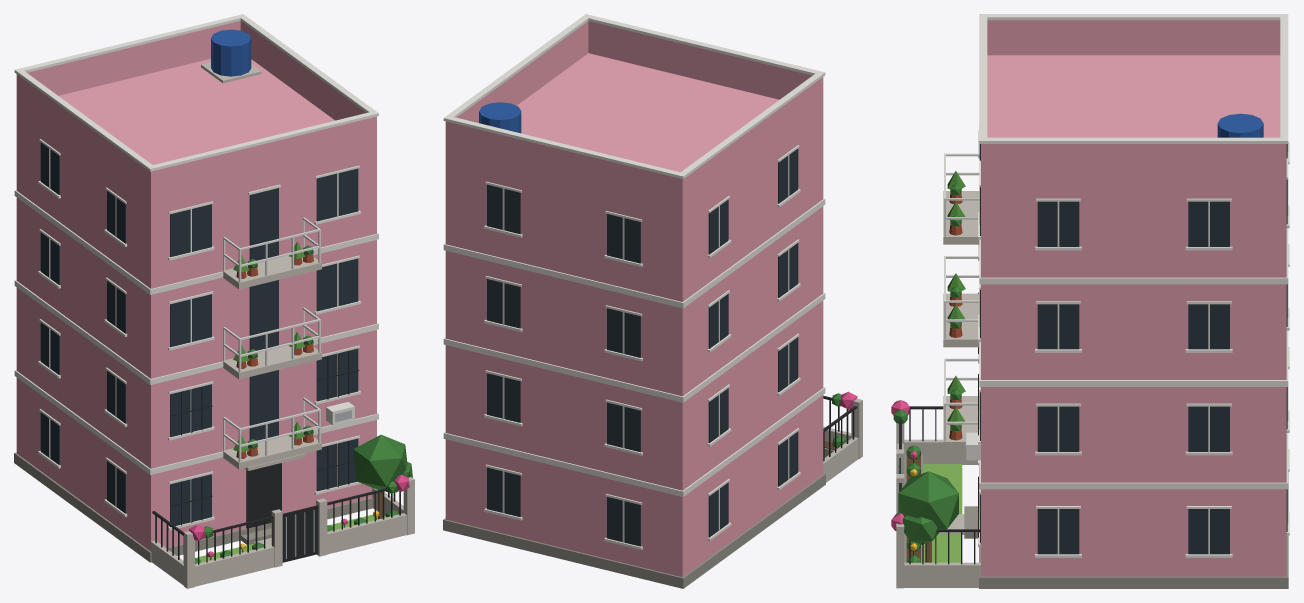
File: BAY_F_Tower_S.glb
3 views of the same model, side by side, from view 1: azimuth 30°, elevation 25°; view 2: azimuth 150°, elevation 25°; view 3: azimuth 270°, elevation 25° (orthographic). The views are drawn at different scales.
Visible parts, largest first — view 1: BAY_F_Tower_S; view 2: BAY_F_Tower_S; view 3: BAY_F_Tower_S.
Boxes of the visible parts, x1,y1,x2,y2 form: BAY_F_Tower_S: (14, 14, 414, 588); BAY_F_Tower_S: (443, 14, 862, 588); BAY_F_Tower_S: (891, 14, 1289, 588).
Bounding box in the file's own units: 7.43 × 11.8 × 9.51.
1 material, 1 textured.
